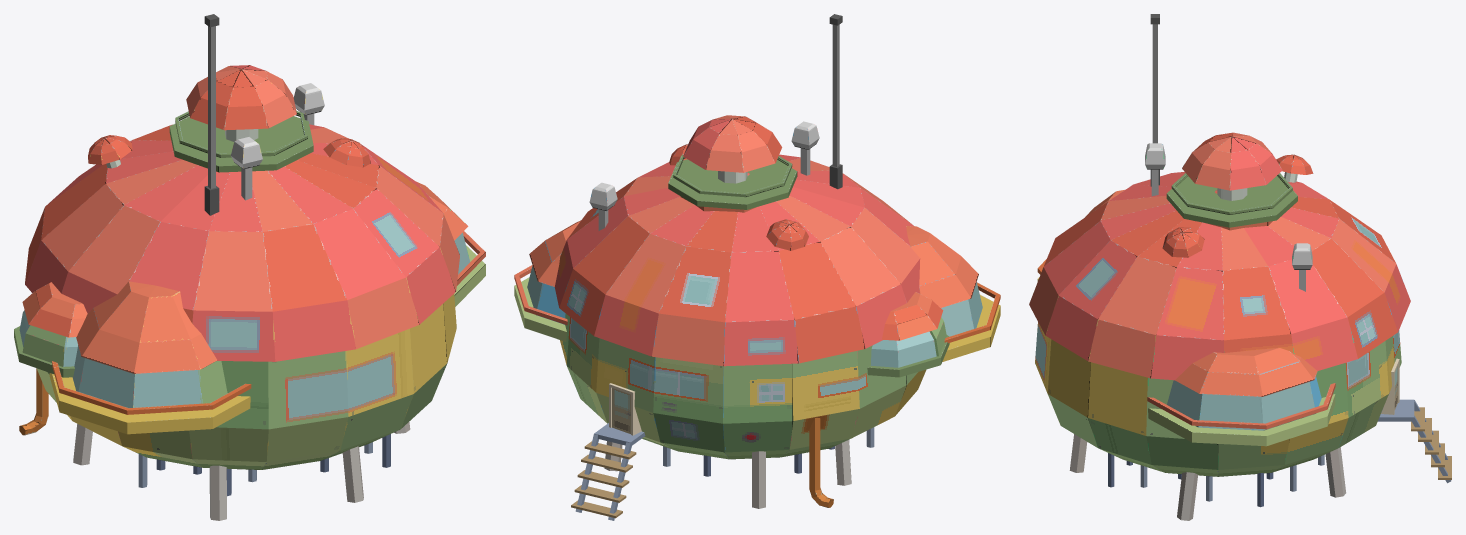
Rendered from F.ber_house_4.gltf.
3 views of the same model, side by side, from view 1: azimuth 30°, elevation 25°; view 2: azimuth 150°, elevation 25°; view 3: azimuth 270°, elevation 25° (orthographic). The views are drawn at different scales.
Parts seen in each view (by area): view 1: cuboid; view 2: cuboid; view 3: cuboid.
Part boxes in pixels (<box>): cuboid: <box>14,14,485,520</box>; cuboid: <box>514,14,1000,520</box>; cuboid: <box>1029,14,1451,520</box>.
Bounding box in the file's own units: 12.6 × 12.26 × 11.32.
Materials: 1 (1 with a texture image).
